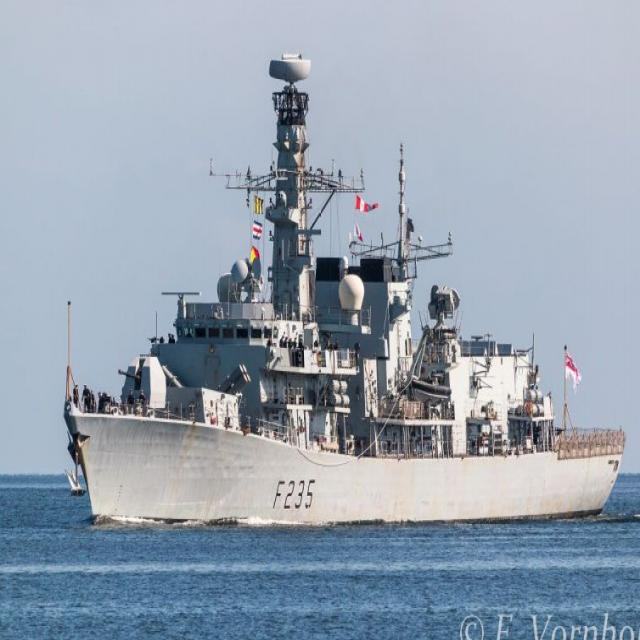Fragata: (62, 43, 633, 530)
